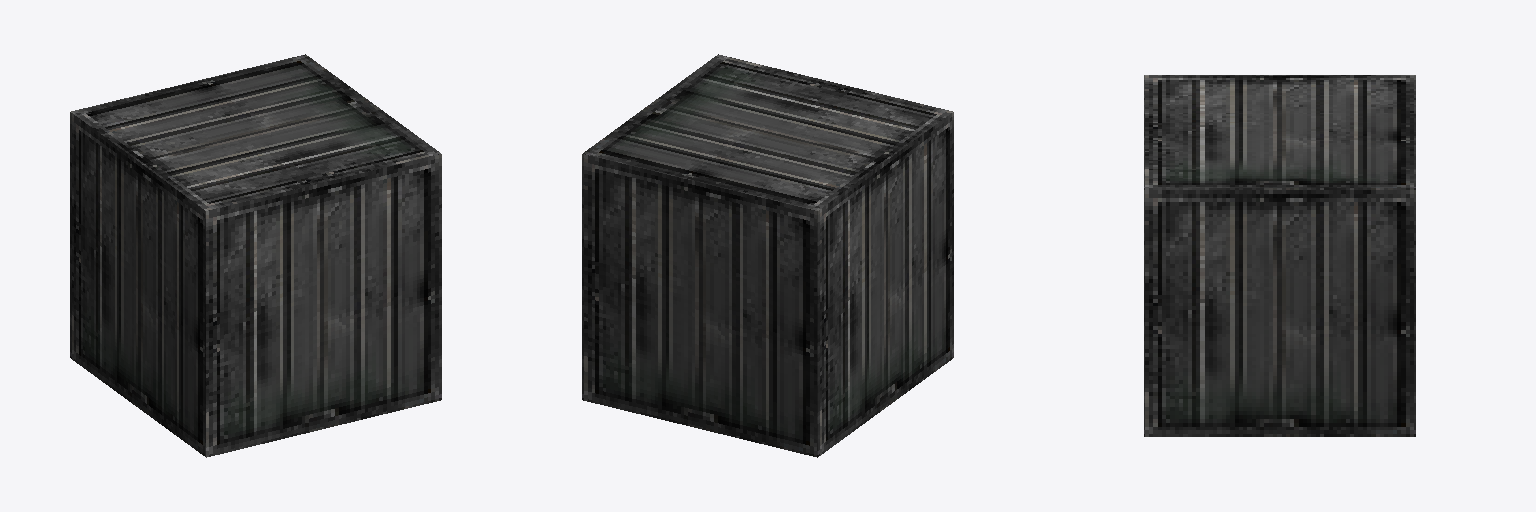
3 views of the same model, side by side, from view 1: azimuth 30°, elevation 25°; view 2: azimuth 150°, elevation 25°; view 3: azimuth 270°, elevation 25° (orthographic).
Visible parts, largest first — view 1: Cube; view 2: Cube; view 3: Cube.
Boxes of the visible parts, <box> form: Cube: <box>70,54,441,457</box>; Cube: <box>582,54,953,457</box>; Cube: <box>1144,75,1415,436</box>.
Size of the model in its own units: 2 by 2 by 2.
1 materials, 1 textured.